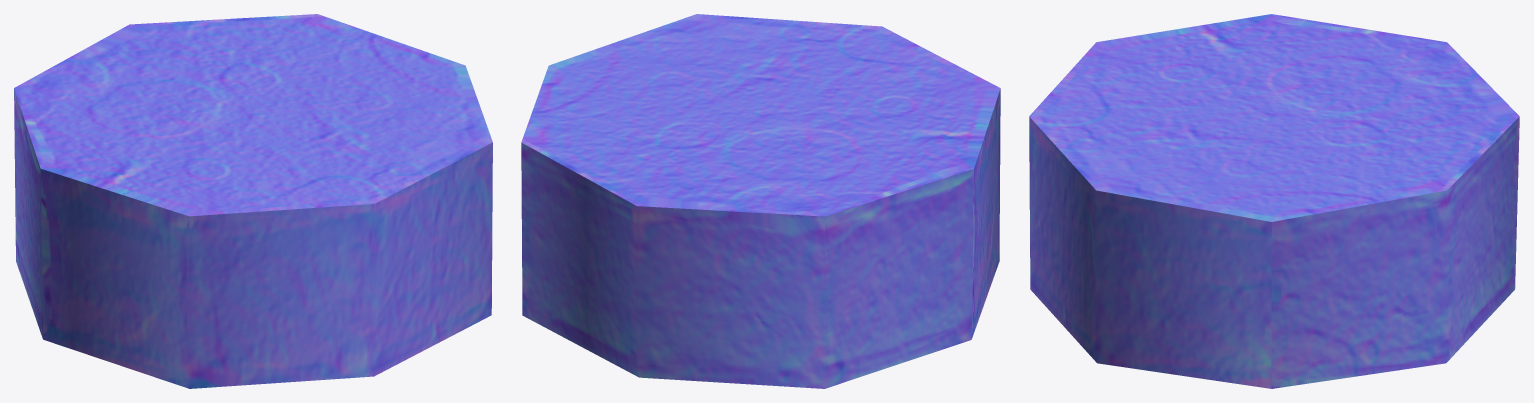
File: pillar_bottom_02a_LOD2.fbx
3 views of the same model, side by side, from view 1: azimuth 30°, elevation 25°; view 2: azimuth 150°, elevation 25°; view 3: azimuth 270°, elevation 25° (orthographic).
Parts seen in each view (by area): view 1: pillar_bottom_02a_LOD2; view 2: pillar_bottom_02a_LOD2; view 3: pillar_bottom_02a_LOD2.
Boxes of the visible parts, <box> form: pillar_bottom_02a_LOD2: <box>14,14,492,388</box>; pillar_bottom_02a_LOD2: <box>521,14,1000,388</box>; pillar_bottom_02a_LOD2: <box>1029,14,1519,388</box>.
Size of the model in its own units: 41.11 by 41.08 by 16.
1 material, 1 textured.
